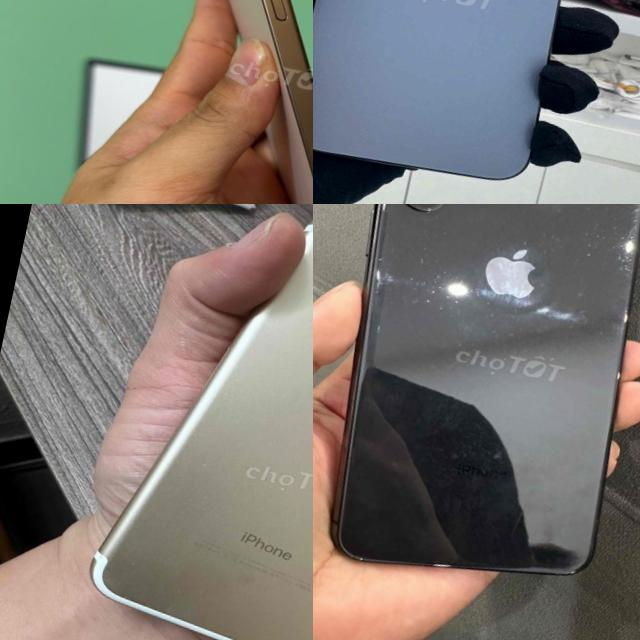gen_12_13: (313, 0, 621, 199)
gen_16: (228, 0, 313, 204)
gen_7_8: (51, 204, 313, 640)
gen_x_xs: (313, 204, 640, 618)
